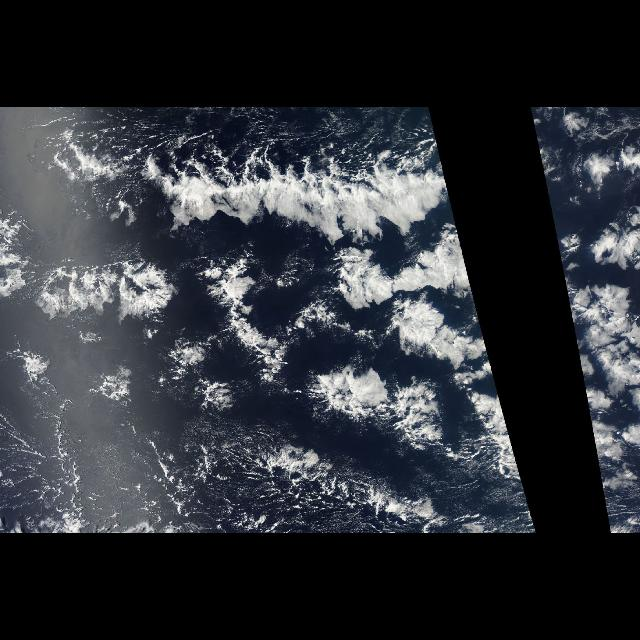Fish: (31, 122, 463, 255), (188, 259, 304, 393), (533, 124, 619, 236)
Flower: (8, 197, 524, 488), (548, 197, 640, 488)
Gravel: (18, 421, 512, 533)
